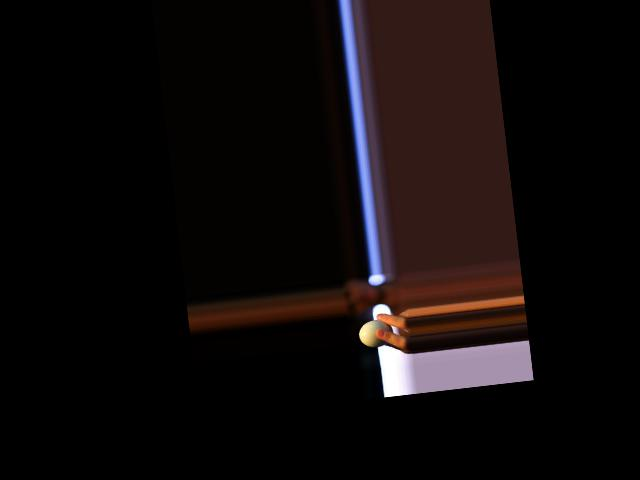egg: (357, 317, 395, 348)
